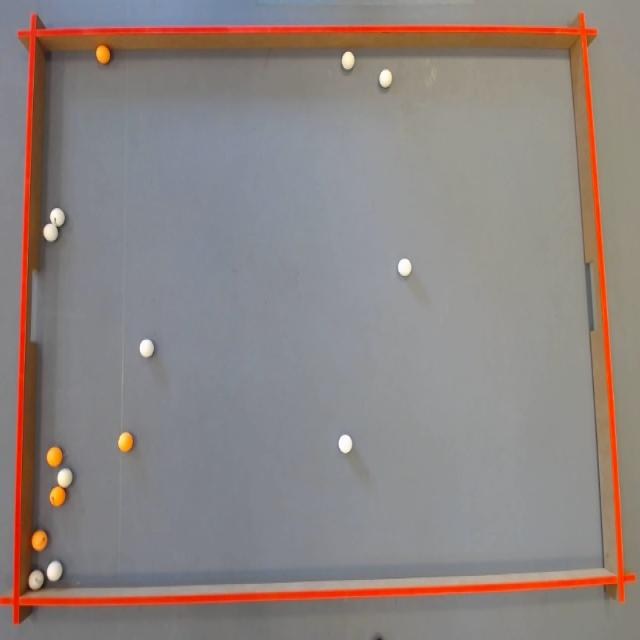orange_ball: (32, 530, 48, 551), (46, 446, 62, 467), (50, 486, 66, 506), (118, 432, 133, 452), (96, 45, 110, 64)
white_ball: (47, 560, 63, 582), (57, 468, 73, 488), (28, 570, 44, 590), (50, 208, 65, 228), (139, 339, 154, 358), (43, 223, 58, 242), (338, 434, 352, 454), (379, 69, 392, 88), (398, 258, 411, 276), (342, 51, 354, 70)
